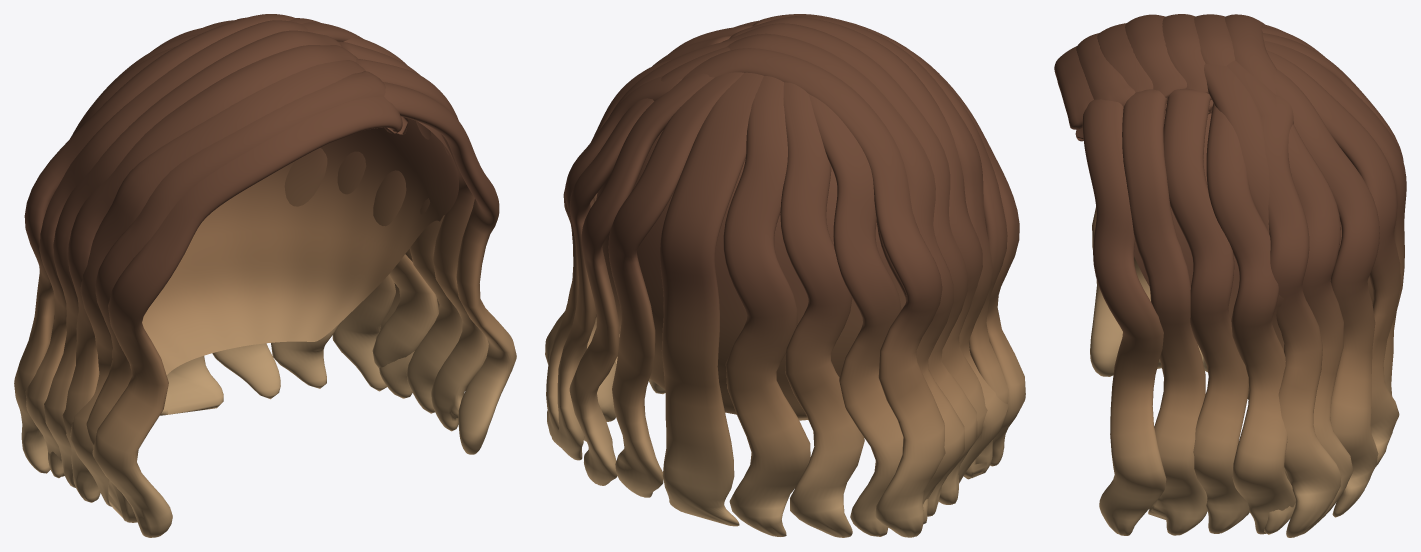
File: curls-none-ombre.glb
3 renders of one model, left to right at view 1: azimuth 30°, elevation 25°; view 2: azimuth 150°, elevation 25°; view 3: azimuth 270°, elevation 25°, orthographic.
Parts seen in each view (by area): view 1: 226 hair / Hair / sculpted 0.001, 226 hair / Hair / sculpted 1.002, 226 hair / Hair / sculpted 1.001, 226 hair / Hair / sculpted 2.001; view 2: 226 hair / Hair / sculpted 0.001, 226 hair / Hair / sculpted 2.001, 226 hair / Hair / sculpted 1.002, 226 hair / Hair / sculpted 1.001; view 3: 226 hair / Hair / sculpted 1.002, 226 hair / Hair / sculpted 2.001, 226 hair / Hair / sculpted 0.001, 226 hair / Hair / sculpted 1.001.
Boxes of the visible parts, <box> form: 226 hair / Hair / sculpted 0.001: <box>14,14,462,537</box>; 226 hair / Hair / sculpted 1.002: <box>44,17,516,522</box>; 226 hair / Hair / sculpted 1.001: <box>142,118,458,375</box>; 226 hair / Hair / sculpted 2.001: <box>25,18,488,506</box>; 226 hair / Hair / sculpted 0.001: <box>569,16,1025,537</box>; 226 hair / Hair / sculpted 2.001: <box>546,15,1008,536</box>; 226 hair / Hair / sculpted 1.002: <box>545,14,1008,537</box>; 226 hair / Hair / sculpted 1.001: <box>596,130,905,420</box>; 226 hair / Hair / sculpted 1.002: <box>1076,14,1400,535</box>; 226 hair / Hair / sculpted 2.001: <box>1097,14,1406,537</box>; 226 hair / Hair / sculpted 0.001: <box>1054,14,1403,533</box>; 226 hair / Hair / sculpted 1.001: <box>1134,112,1373,399</box>.
Size of the model in its own units: 0.9453 by 0.9384 by 0.696.
